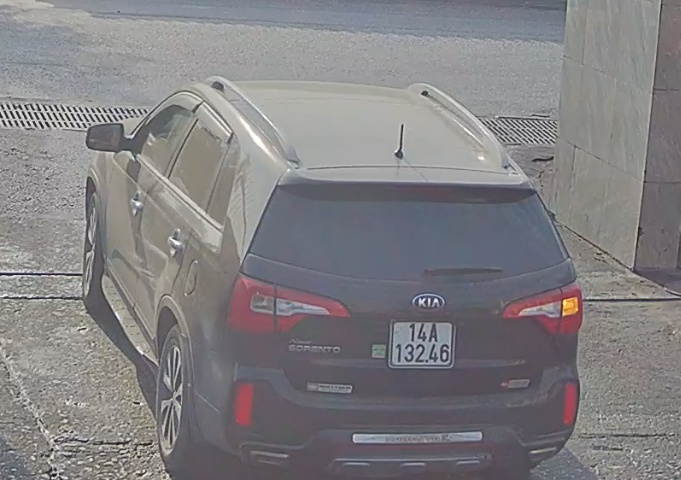vehicle plate: (382, 314, 457, 371)
